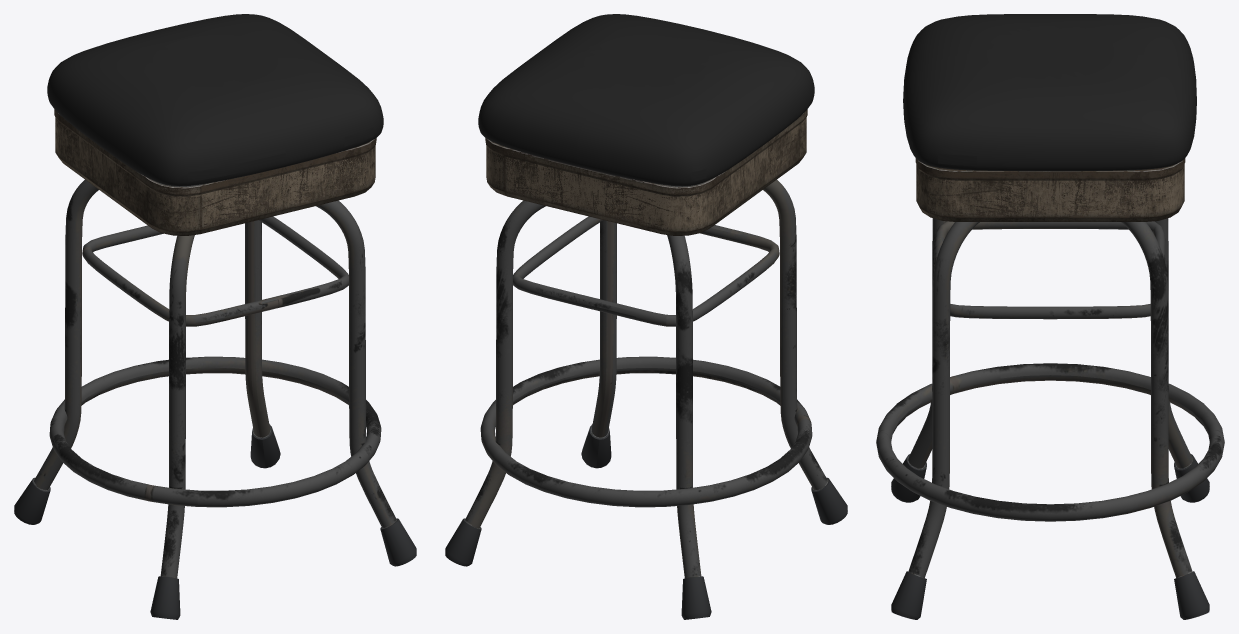
The picture shows the model from 3 angles, left to right: view 1: azimuth 30°, elevation 25°; view 2: azimuth 150°, elevation 25°; view 3: azimuth 270°, elevation 25°; orthographic projection. The views are drawn at different scales.
Parts seen in each view (by area): view 1: BlackShamrock_stool.005_high_BlackShamrock_stool_0.001_Baked; view 2: BlackShamrock_stool.005_high_BlackShamrock_stool_0.001_Baked; view 3: BlackShamrock_stool.005_high_BlackShamrock_stool_0.001_Baked.
Boxes of the visible parts, <box> form: BlackShamrock_stool.005_high_BlackShamrock_stool_0.001_Baked: <box>14,14,416,619</box>; BlackShamrock_stool.005_high_BlackShamrock_stool_0.001_Baked: <box>445,14,847,619</box>; BlackShamrock_stool.005_high_BlackShamrock_stool_0.001_Baked: <box>876,14,1224,619</box>.
Size of the model in its own units: 20.51 by 32.93 by 20.51.
1 material, 1 textured.
